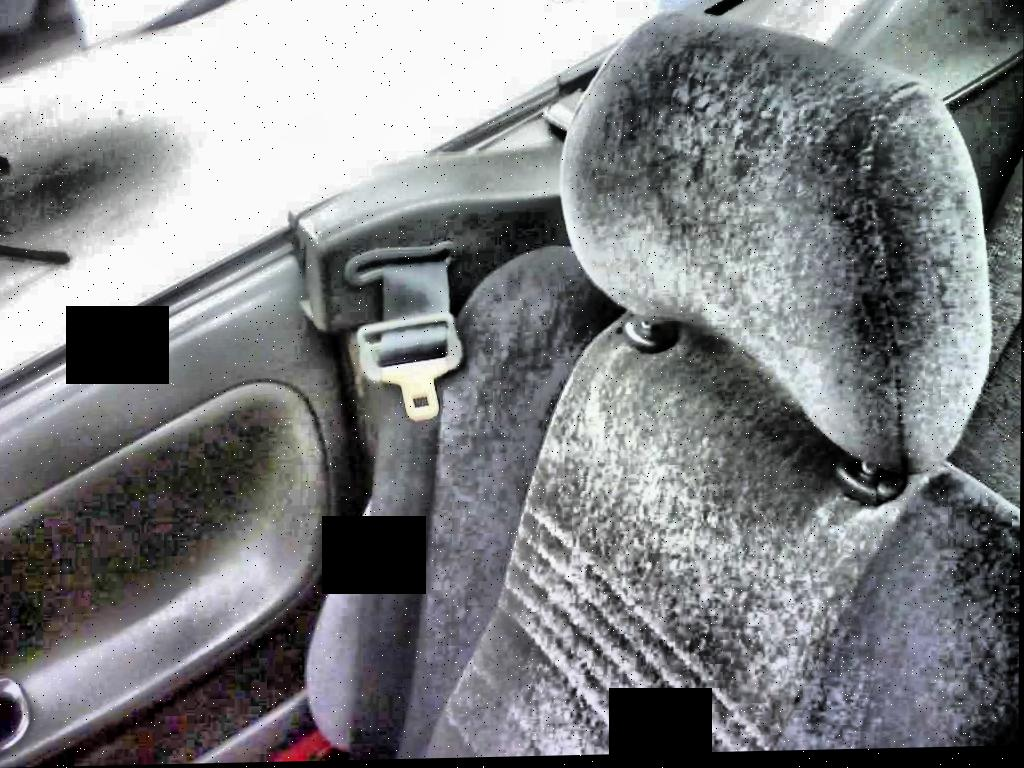seatbelt: (323, 232, 478, 698)
